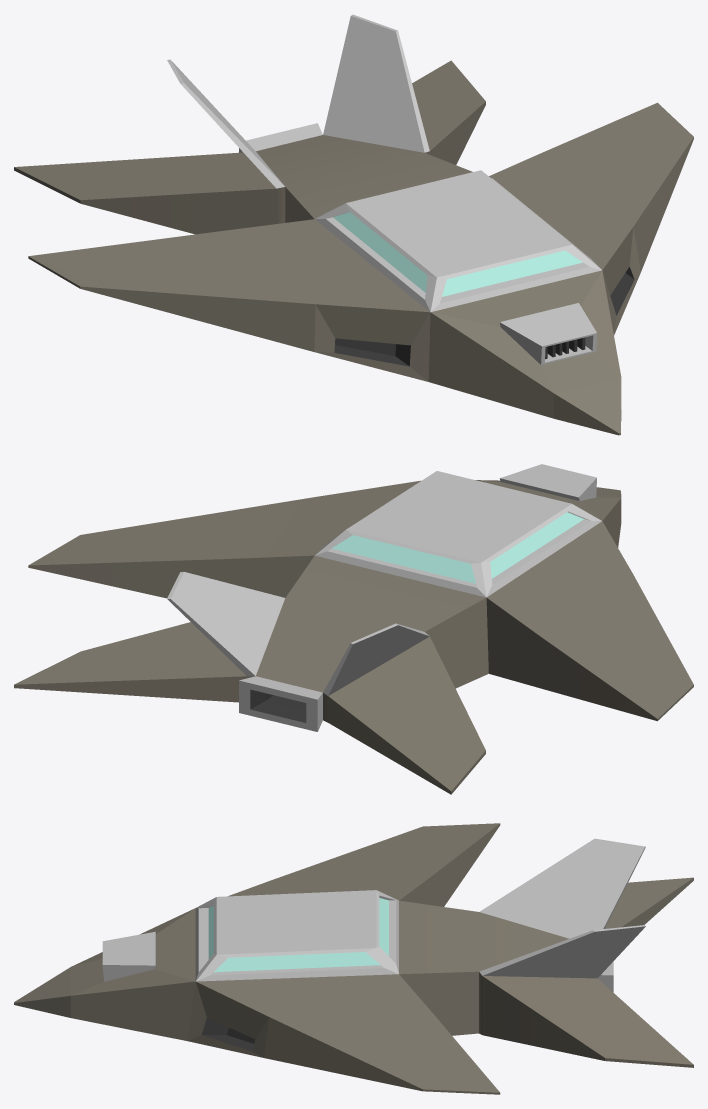
3 renders of one model, top to bottom at view 1: azimuth 30°, elevation 25°; view 2: azimuth 150°, elevation 25°; view 3: azimuth 270°, elevation 25°, orthographic. The views are drawn at different scales.
Parts seen in each view (by area): view 1: pCube8; view 2: pCube8; view 3: pCube8.
Part boxes in pixels (x1,y1,x2,y2): pCube8: [14, 14, 693, 435]; pCube8: [14, 464, 693, 794]; pCube8: [14, 823, 693, 1094].
Size of the model in its own units: 935 by 194 by 997.
